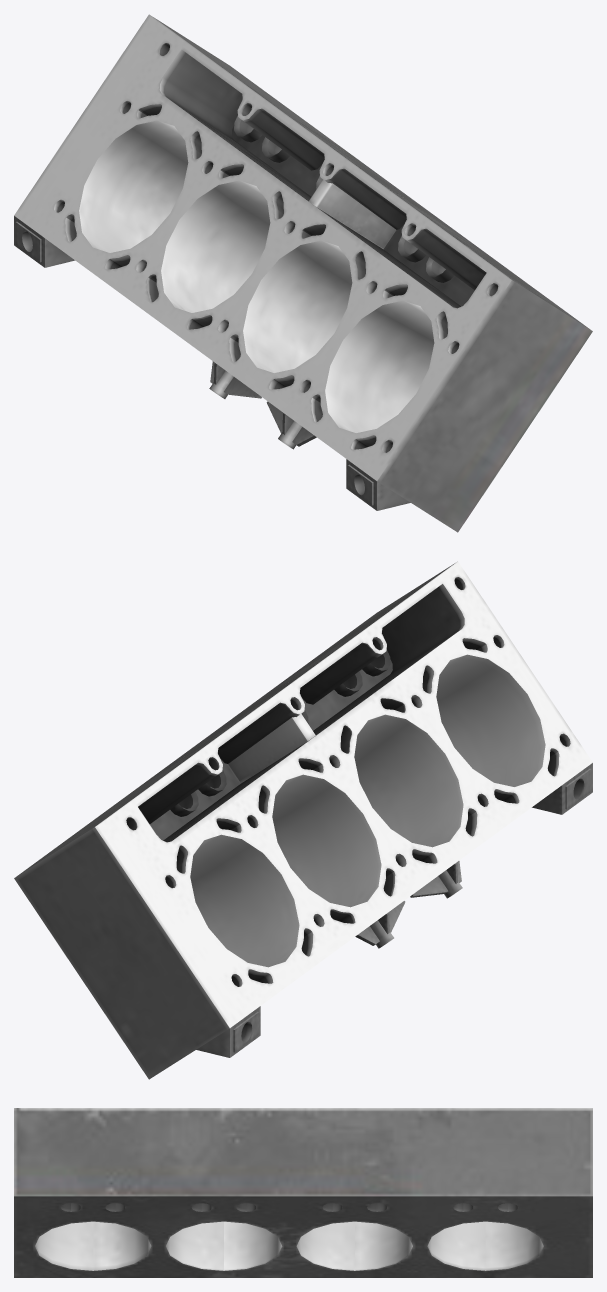
The model's file is cylinders.glb.
The picture shows the model from 3 angles, top to bottom: view 1: azimuth 30°, elevation 25°; view 2: azimuth 150°, elevation 25°; view 3: azimuth 270°, elevation 25°; orthographic projection. The views are drawn at different scales.
Parts seen in each view (by area): view 1: engineBlockCylinderRight_lambert2_0; view 2: engineBlockCylinderRight_lambert2_0; view 3: engineBlockCylinderRight_lambert2_0.
Part boxes in pixels (box(x1,y1,x2,y2)): engineBlockCylinderRight_lambert2_0: box(14, 14, 592, 532); engineBlockCylinderRight_lambert2_0: box(14, 561, 592, 1079); engineBlockCylinderRight_lambert2_0: box(14, 1108, 592, 1277).
Size of the model in its own units: 44.37 by 46.65 by 128.
1 material, 1 textured.
